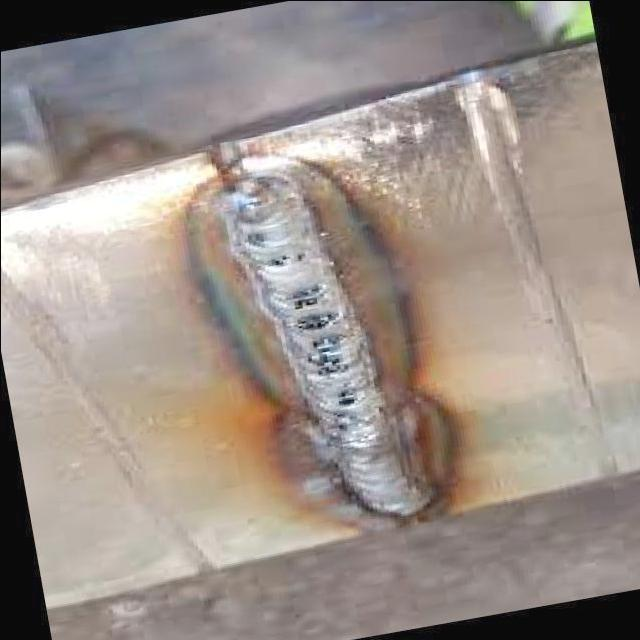defect: (298, 326, 355, 380), (288, 308, 342, 337), (289, 281, 330, 314), (265, 250, 305, 272), (332, 386, 368, 409)
